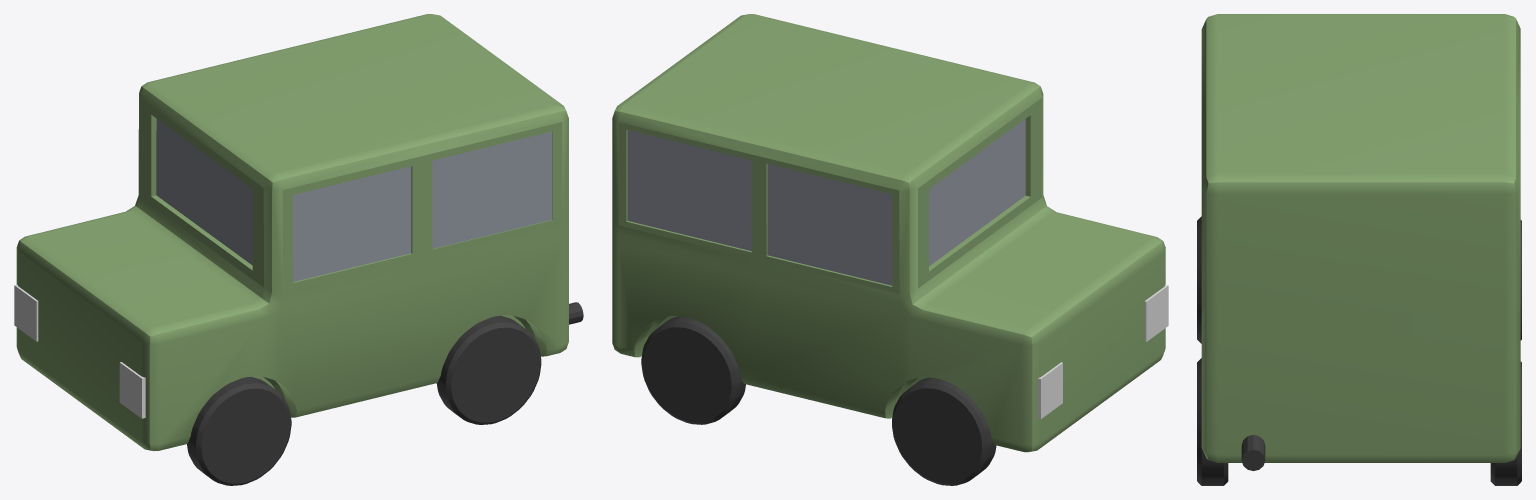
Rendered from Car2.fbx.
The picture shows the model from 3 angles, left to right: view 1: azimuth 30°, elevation 25°; view 2: azimuth 150°, elevation 25°; view 3: azimuth 270°, elevation 25°; orthographic projection. The views are drawn at different scales.
Parts seen in each view (by area): view 1: polySurface50; view 2: polySurface50; view 3: polySurface50.
Part boxes in pixels (left/top/right/bottom): polySurface50: left=14, top=14, right=583, bottom=485; polySurface50: left=612, top=14, right=1168, bottom=485; polySurface50: left=1197, top=14, right=1521, bottom=485.
Size of the model in its own units: 228 by 143 by 122.
